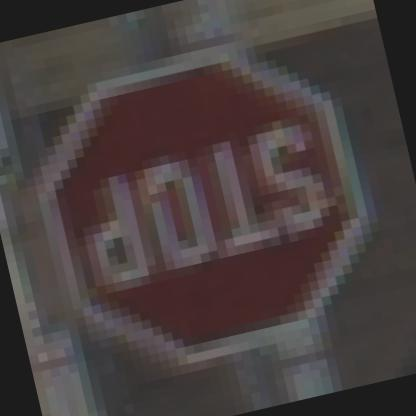stop: (16, 28, 406, 395)
